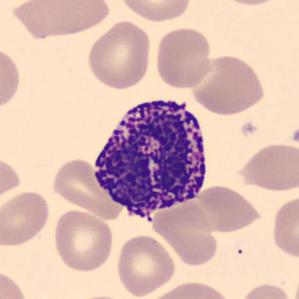Basophil: (86, 89, 215, 228)
Platelets: (288, 126, 299, 146)
RBC: (85, 18, 154, 91), (190, 52, 268, 116), (49, 156, 125, 220), (152, 200, 221, 268), (179, 183, 264, 235), (50, 208, 115, 274), (114, 232, 178, 298), (9, 0, 112, 40), (153, 25, 214, 90), (234, 141, 298, 193), (0, 188, 51, 247), (269, 194, 299, 260), (145, 279, 233, 299), (117, 0, 193, 23), (0, 44, 23, 113), (0, 154, 22, 202), (0, 267, 32, 299), (238, 281, 292, 299), (210, 0, 287, 7), (71, 293, 135, 299), (293, 268, 299, 299)
